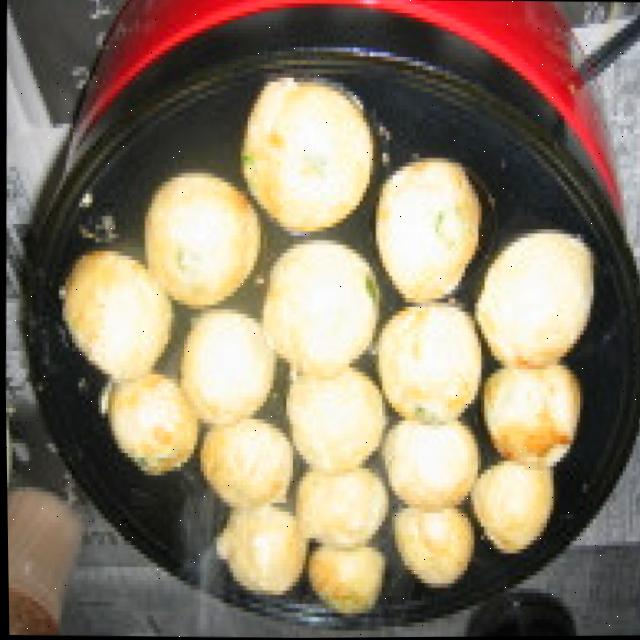炸货点心: (5, 43, 640, 632)
